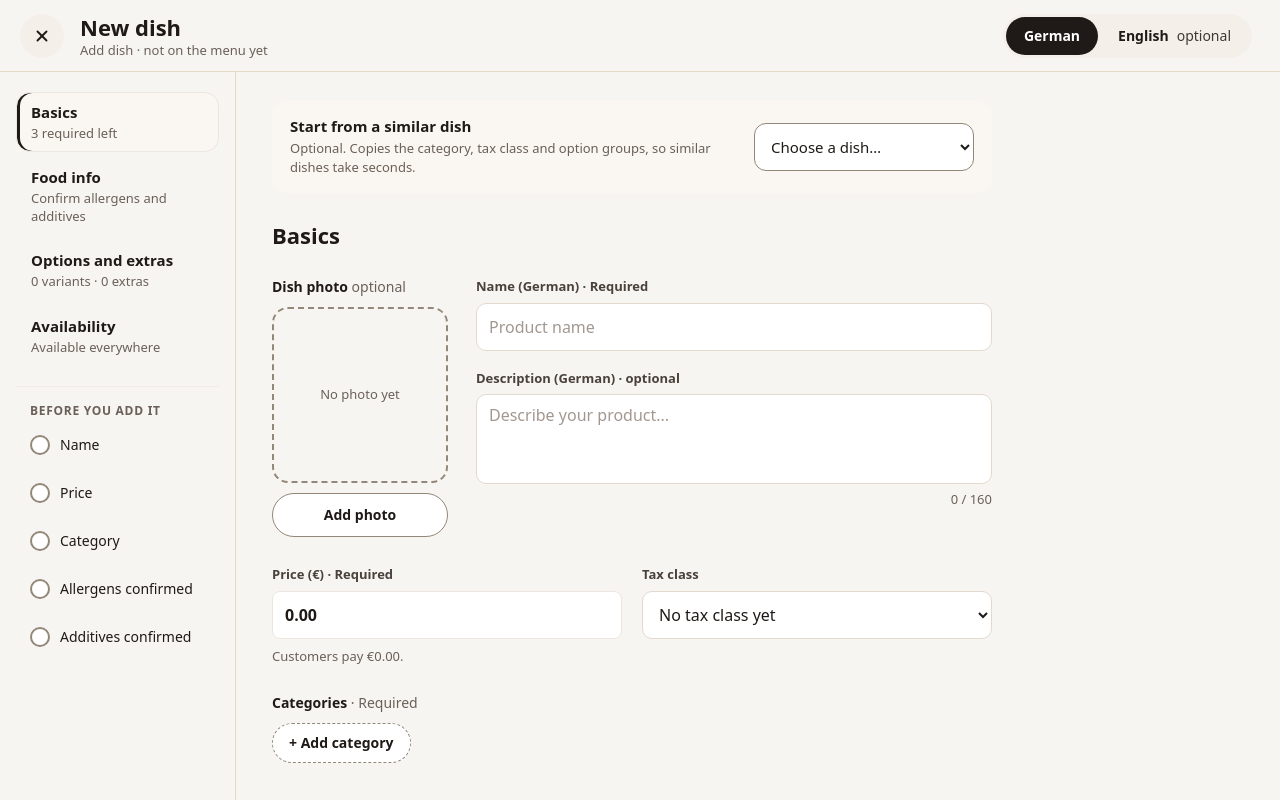
Test case: AddDishPanel required list › lists five checklist rows that name their state and jump to their section
This screenshot has width=1280, height=800.
Check: the text "Before you add it" is shown, box [30,402,161,419]
Check: the button with aria-label "Name — not done yet" is shown, box [16,423,219,467]
What coordinates should you click on to do the following:
click the button with aria-label "Allergens confirmed — not done yet, go to Food info"
I would click on:
 (118, 589)
Its box is [16,567,219,611].
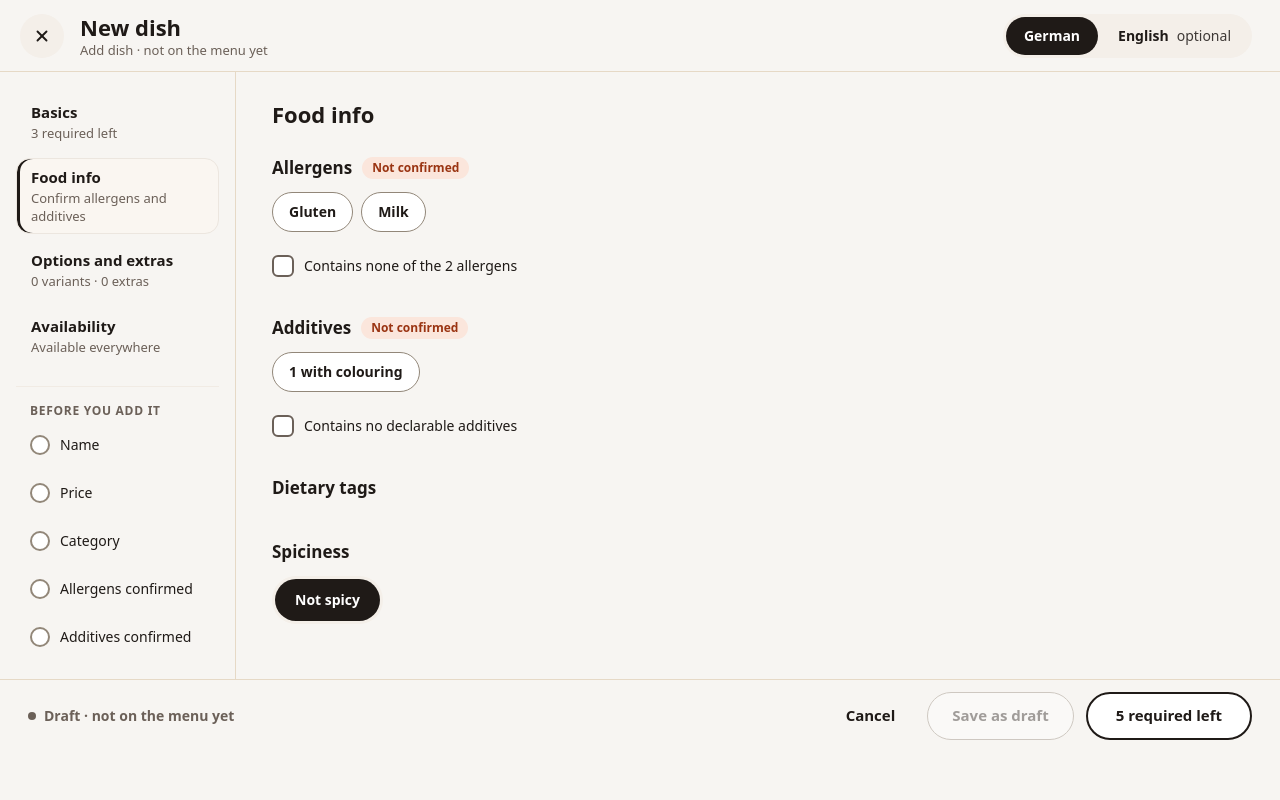
Check: the heading "Food info" is shown, box [272,99,374,129]
